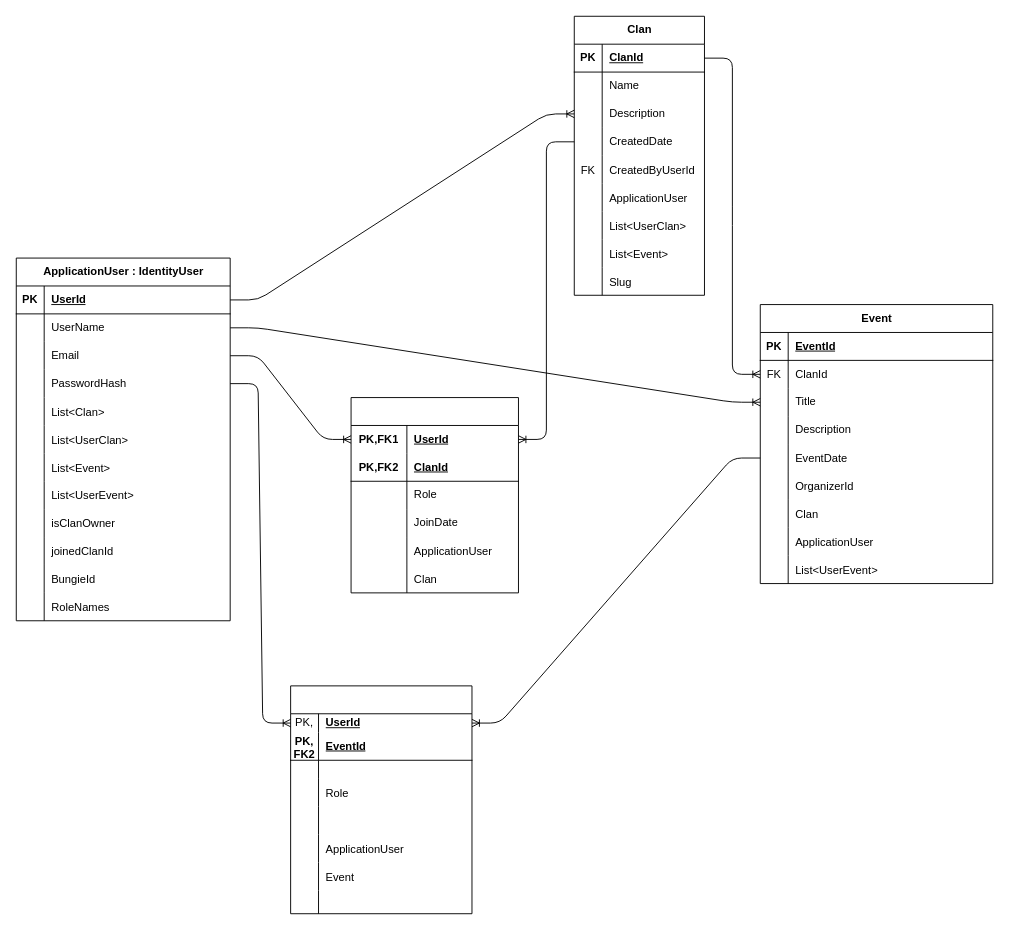
This 1009x930 diagram has some shape labels left out. Here are the shapes that lost their labels. From the top down, the box of each, then its label:
(350, 397, 518, 593): UserClan
(290, 685, 472, 914): UserEvent
